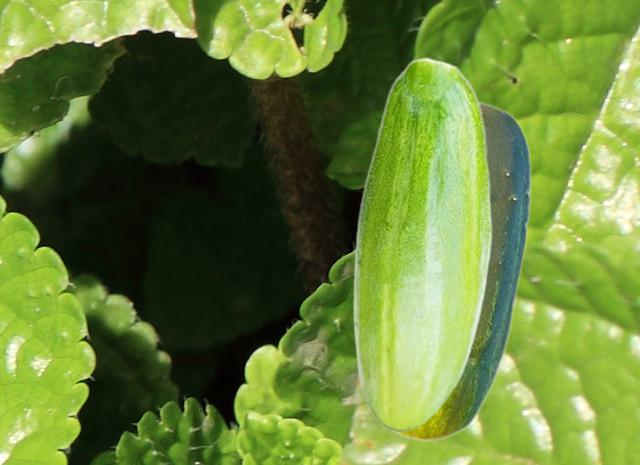cucumber: (364, 99, 530, 441), (352, 57, 491, 431)
